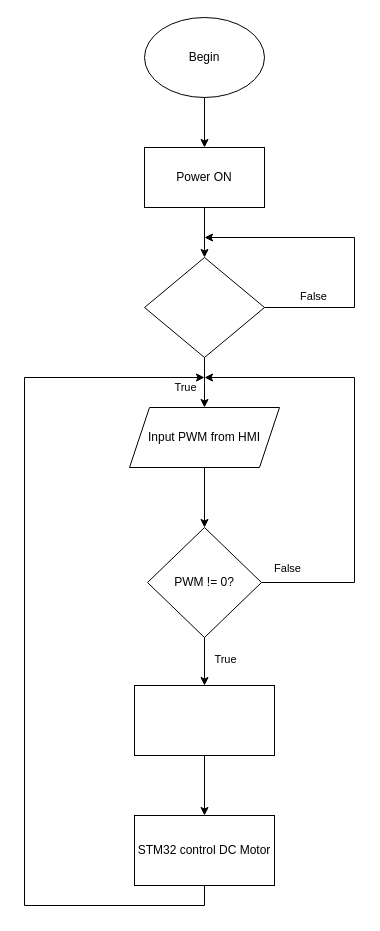
Image size: 380x931. Some labels were removed from this diagram. Here are the shapes that lost their labels. From the top down, the centre of each, then its label:
(x=204, y=307): UART is active?
(x=204, y=720): Send PWM to STM32
